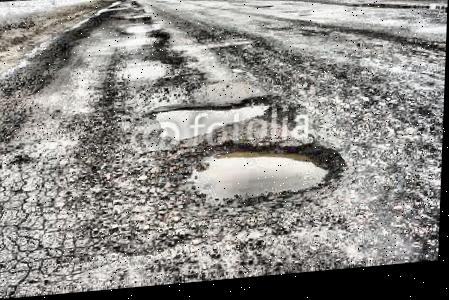pothole: (173, 134, 347, 213), (147, 97, 278, 147), (115, 59, 168, 88), (118, 36, 161, 50), (124, 25, 158, 36)
